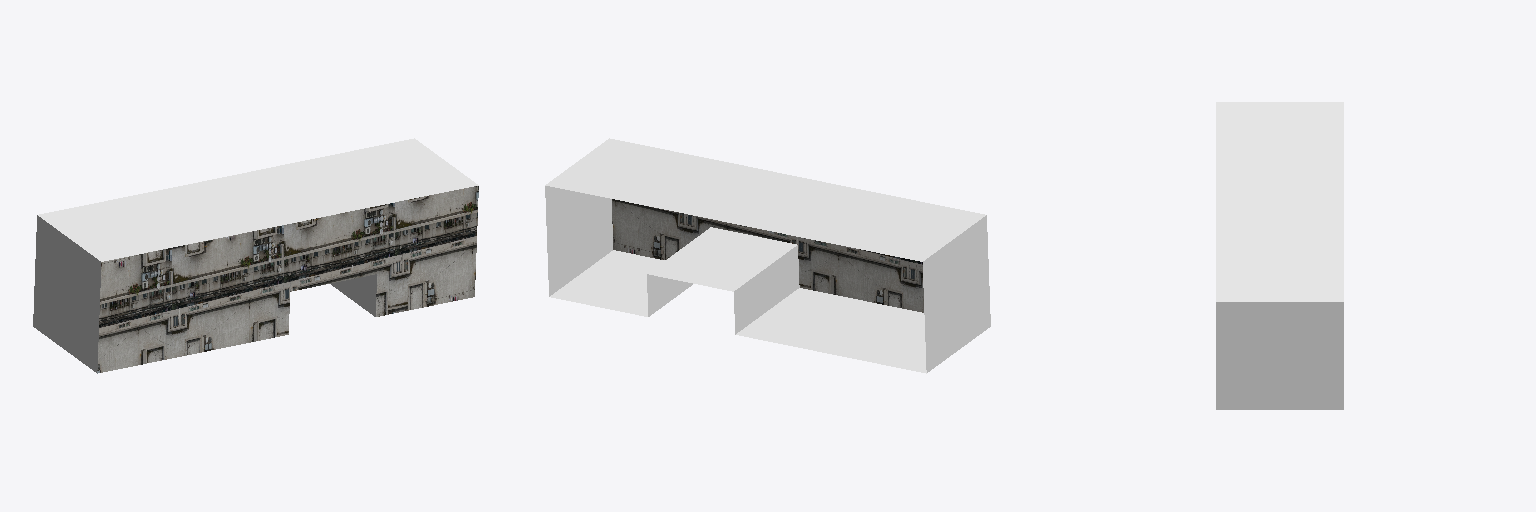
3 renders of one model, left to right at view 1: azimuth 30°, elevation 25°; view 2: azimuth 150°, elevation 25°; view 3: azimuth 270°, elevation 25°, orthographic.
Parts seen in each view (by area): view 1: Building; view 2: Building; view 3: Building.
Part boxes in pixels (left/top/right/bottom): Building: left=33, top=138, right=478, bottom=373; Building: left=545, top=138, right=990, bottom=373; Building: left=1216, top=102, right=1343, bottom=409.
Size of the model in its own units: 20.55 by 6.49 by 6.
Materials: 2 (1 with a texture image).